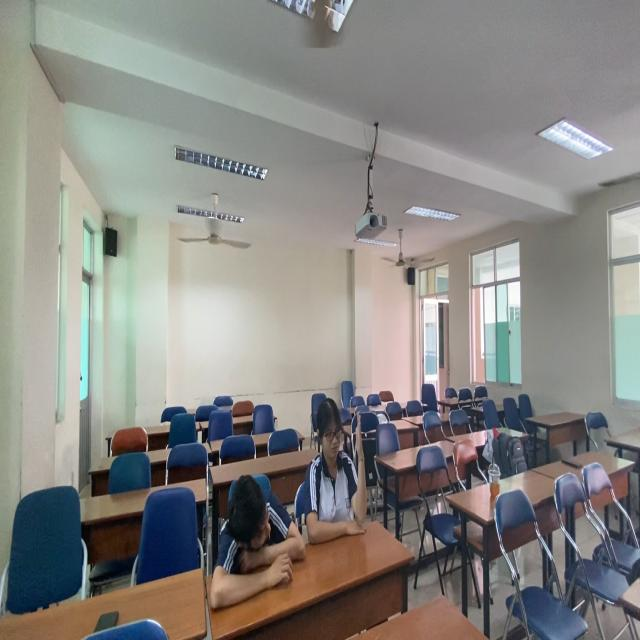raise_hand: (306, 390, 370, 541)
sleep: (201, 469, 317, 609)
